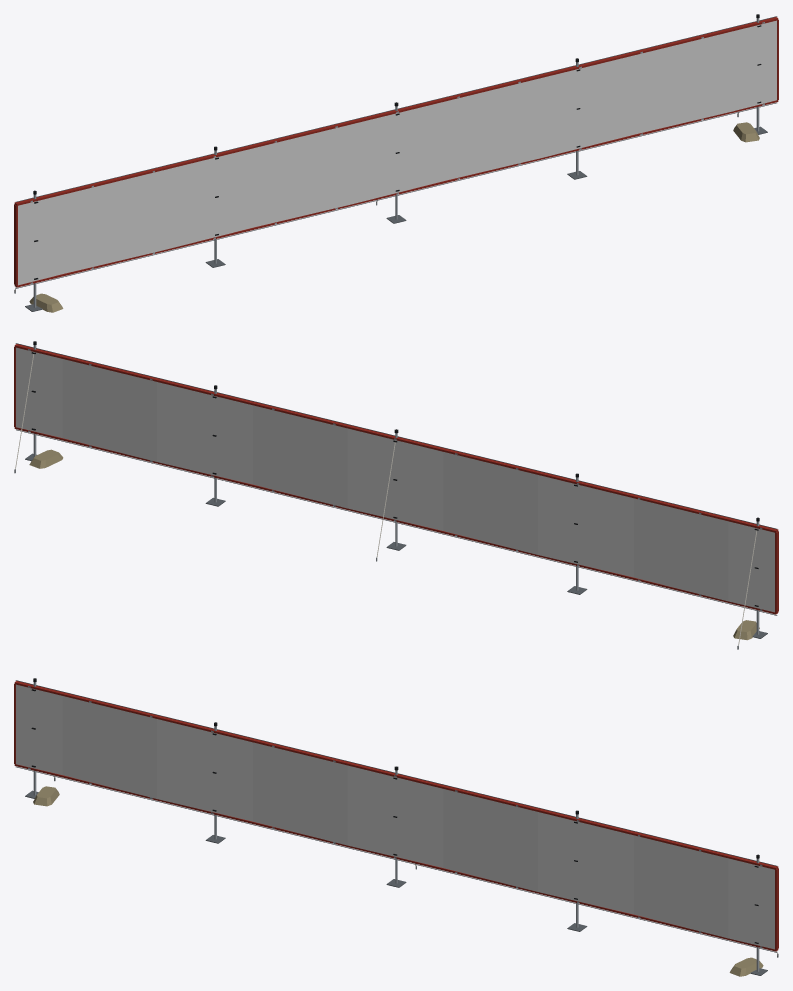
File: banner.glb
3 views of the same model, one above another, from view 1: azimuth 30°, elevation 25°; view 2: azimuth 150°, elevation 25°; view 3: azimuth 330°, elevation 25° (orthographic).
Visible parts, largest first — view 1: banner; view 2: banner; view 3: banner.
Part boxes in pixels (<box>): banner: <box>14,14,778,312</box>; banner: <box>14,341,778,649</box>; banner: <box>14,678,778,976</box>.
Bounding box in the file's own units: 13.29 × 1.94 × 0.894.
